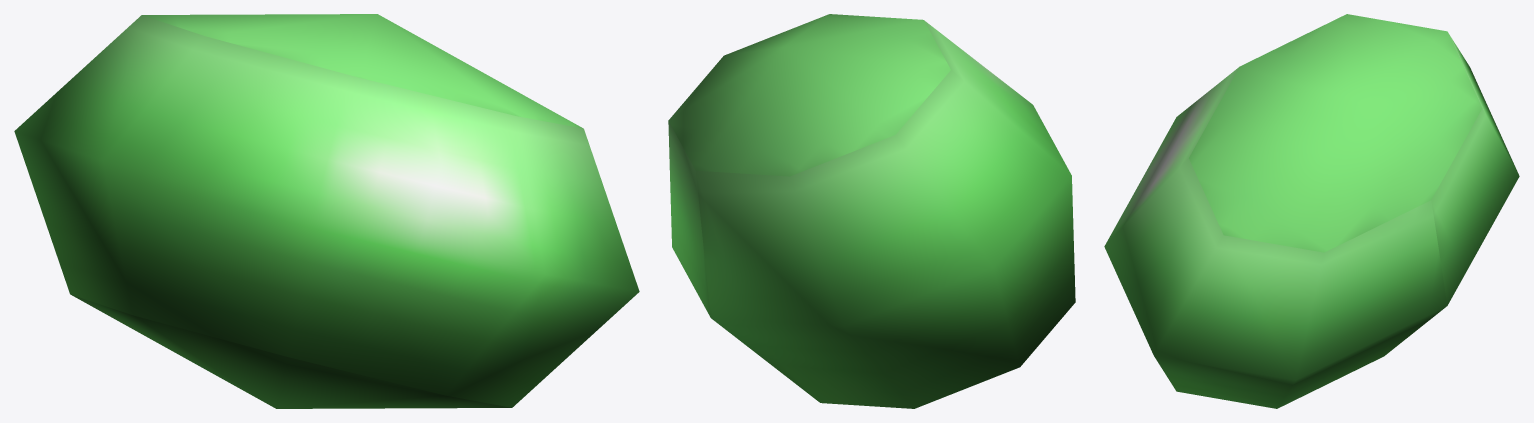
The model's file is Gemstone 1.fbx.
3 renders of one model, left to right at view 1: azimuth 30°, elevation 25°; view 2: azimuth 150°, elevation 25°; view 3: azimuth 270°, elevation 25°, orthographic. The views are drawn at different scales.
Visible parts, largest first — view 1: GemStone1; view 2: GemStone1; view 3: GemStone1.
Boxes of the visible parts, left/top/right/bottom form: GemStone1: left=14, top=14, right=639, bottom=408; GemStone1: left=668, top=14, right=1075, bottom=408; GemStone1: left=1104, top=14, right=1519, bottom=408.
Bounding box in the file's own units: 0.161 × 0.1303 × 0.1575.
